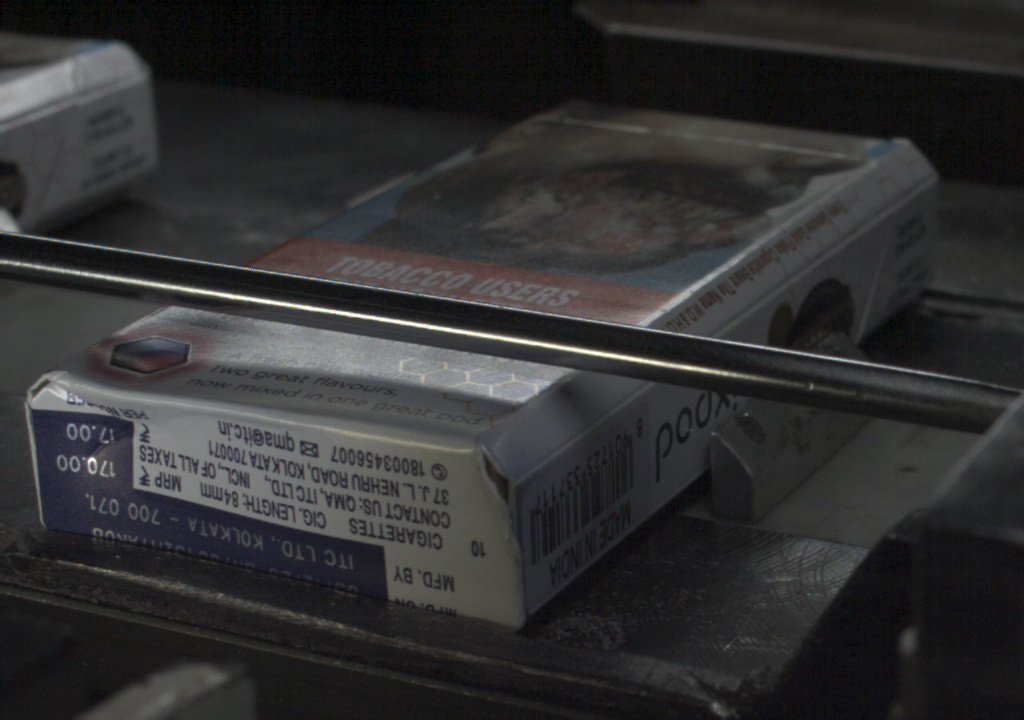g_label: (39, 489, 388, 599)
g_lmiter: (712, 262, 804, 334), (802, 201, 888, 262), (577, 382, 644, 430), (522, 430, 577, 479)
g_miter: (895, 175, 933, 208)
ng_bottom: (27, 371, 138, 501), (472, 438, 525, 591)
price: (35, 420, 130, 488)
